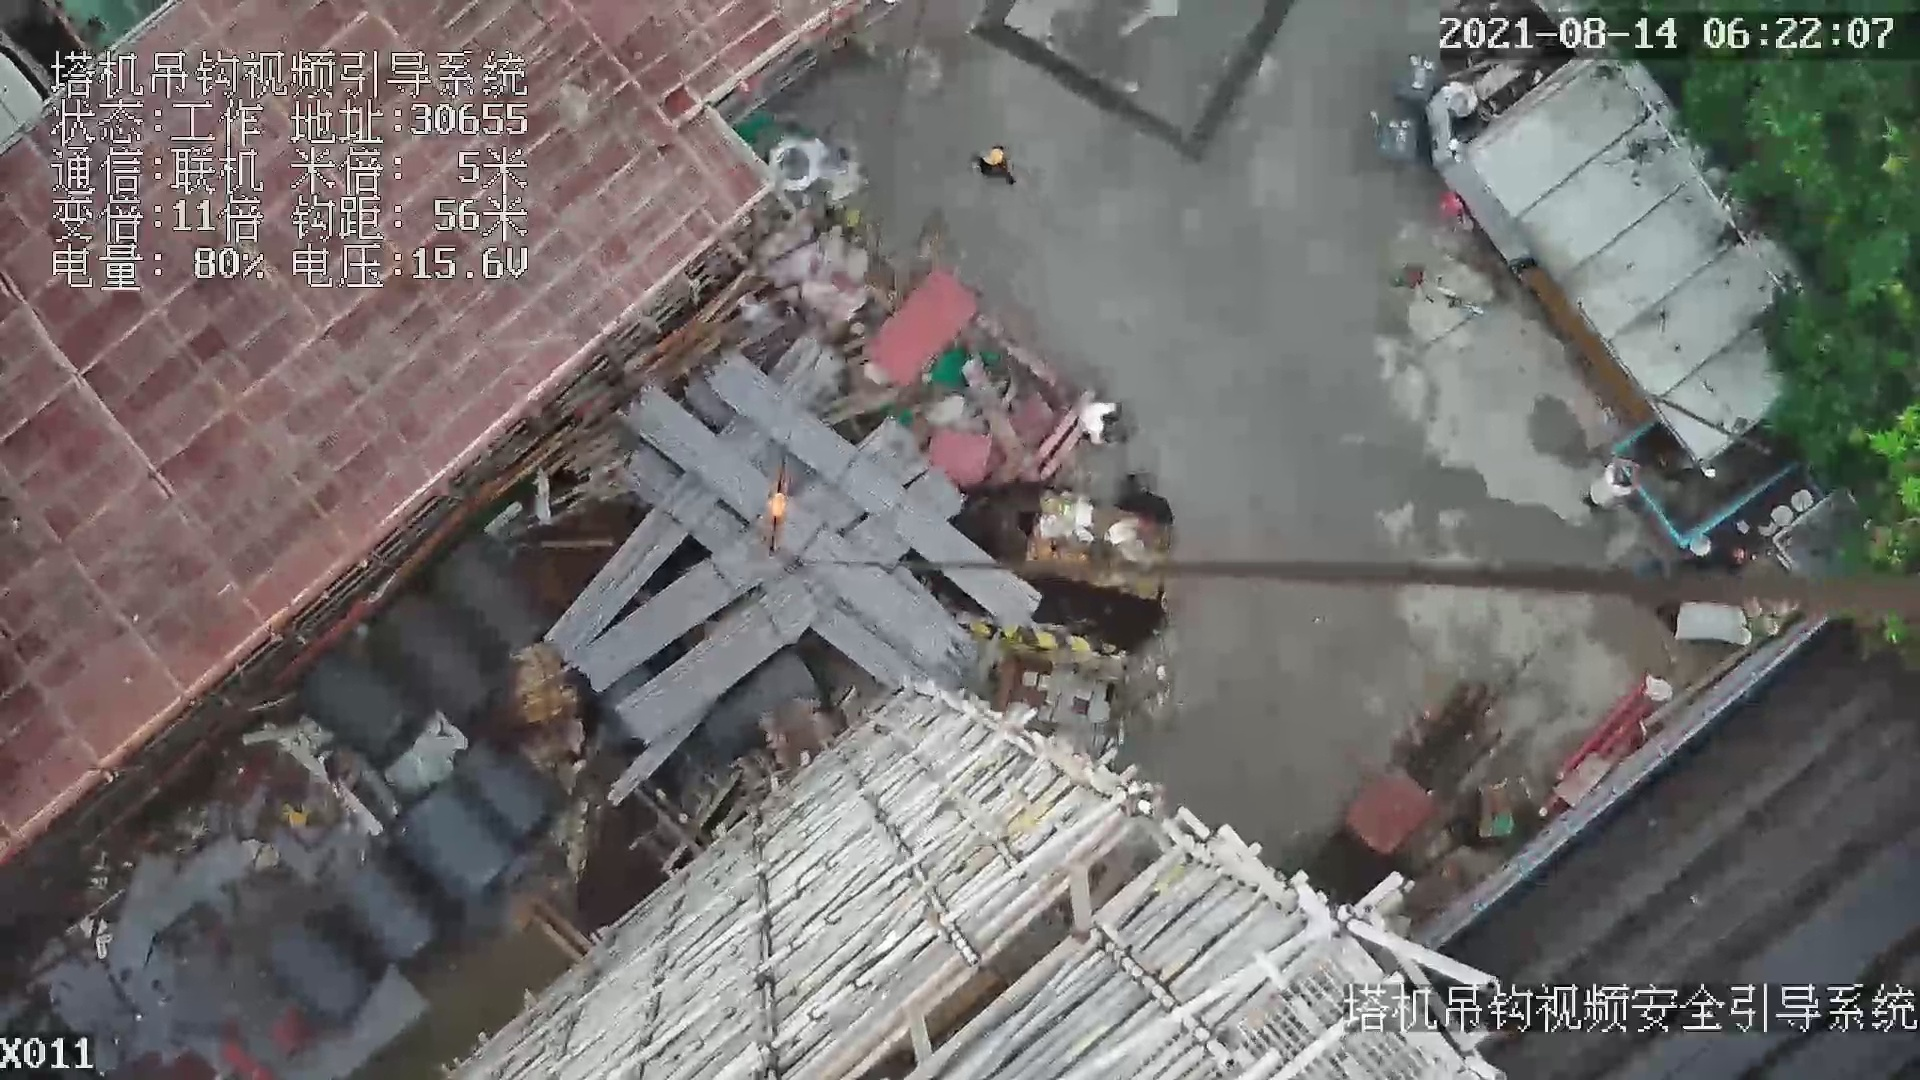hook: (767, 454, 786, 554)
person: (974, 144, 1022, 191)
